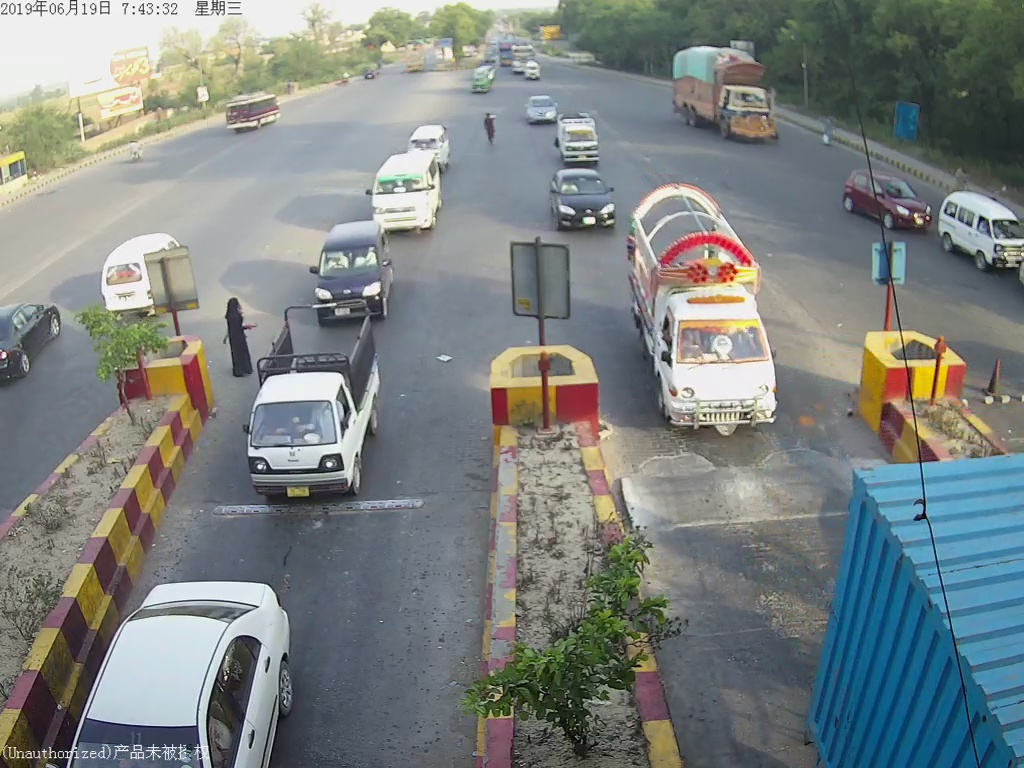Cat-1: (248, 300, 389, 498), (309, 222, 395, 295), (551, 173, 619, 236), (558, 117, 607, 170)
Cat-2: (631, 195, 789, 434), (372, 158, 448, 244)
